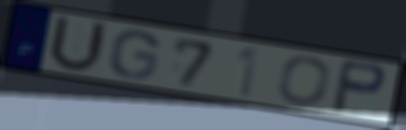1: (236, 47, 259, 98)
7: (172, 36, 216, 87)
G: (106, 29, 162, 81)
O: (275, 55, 333, 107)
P: (329, 58, 389, 116)
U: (45, 13, 110, 74)
